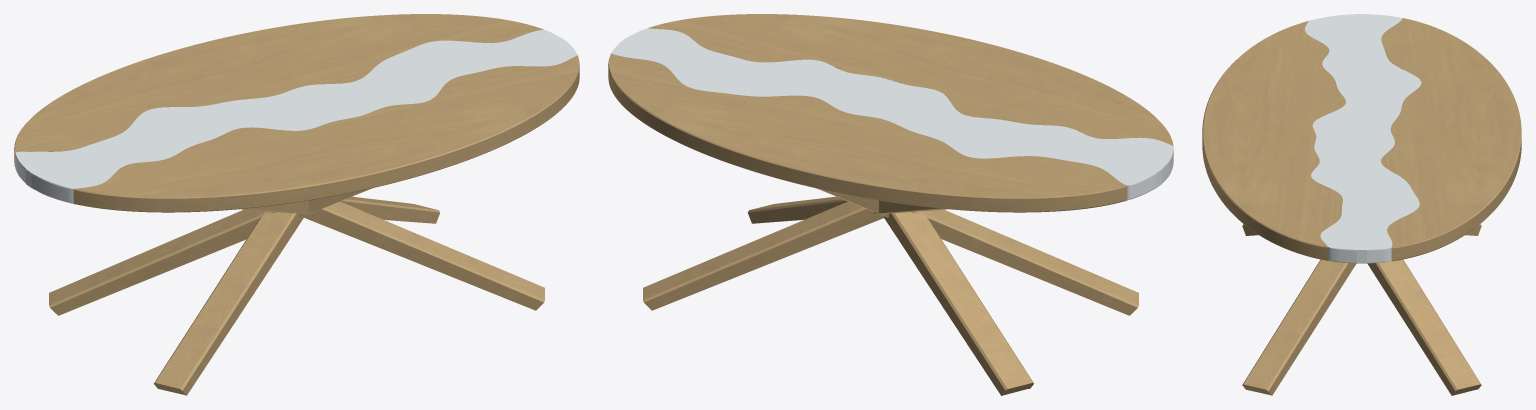
File: ellipse-beech-epoxy-clear.glb
3 renders of one model, left to right at view 1: azimuth 30°, elevation 25°; view 2: azimuth 150°, elevation 25°; view 3: azimuth 270°, elevation 25°, orthographic. The views are drawn at different scales.
Visible parts, largest first — view 1: Wood_Ellipse_EpoxyFar, Wood_Ellipse_EpoxyNear, Base_Ellipse, Resin_Ellipse; view 2: Wood_Ellipse_EpoxyNear, Wood_Ellipse_EpoxyFar, Base_Ellipse, Resin_Ellipse; view 3: Wood_Ellipse_EpoxyNear, Wood_Ellipse_EpoxyFar, Resin_Ellipse, Base_Ellipse.
Boxes of the visible parts, bbox=[...] form: Wood_Ellipse_EpoxyFar: bbox=[73, 55, 579, 212]; Wood_Ellipse_EpoxyNear: bbox=[14, 14, 543, 166]; Base_Ellipse: bbox=[49, 188, 544, 395]; Resin_Ellipse: bbox=[15, 29, 577, 203]; Wood_Ellipse_EpoxyNear: bbox=[608, 53, 1127, 212]; Wood_Ellipse_EpoxyFar: bbox=[647, 14, 1173, 145]; Base_Ellipse: bbox=[643, 188, 1138, 395]; Resin_Ellipse: bbox=[611, 28, 1173, 200]; Wood_Ellipse_EpoxyNear: bbox=[1381, 18, 1521, 261]; Wood_Ellipse_EpoxyFar: bbox=[1202, 21, 1345, 260]; Resin_Ellipse: bbox=[1305, 14, 1421, 263]; Base_Ellipse: bbox=[1242, 224, 1481, 395].
Size of the model in its own units: 2.13 by 0.762 by 1.22.
2 materials, 1 textured.
